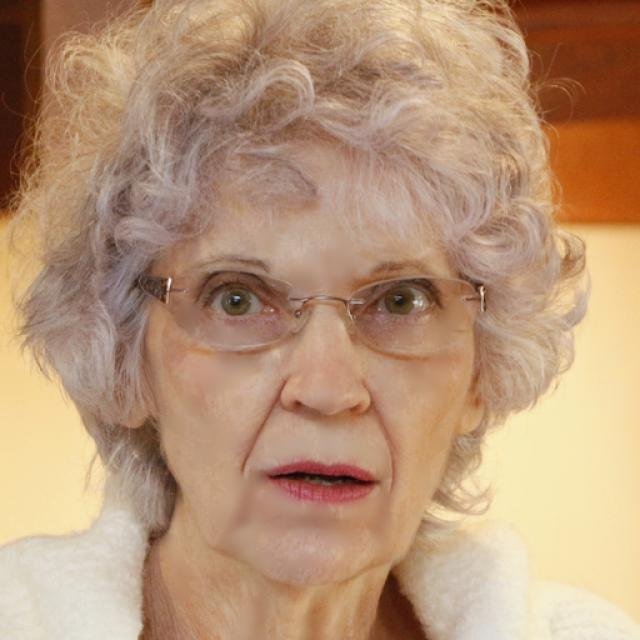fear: (150, 126, 471, 585)
